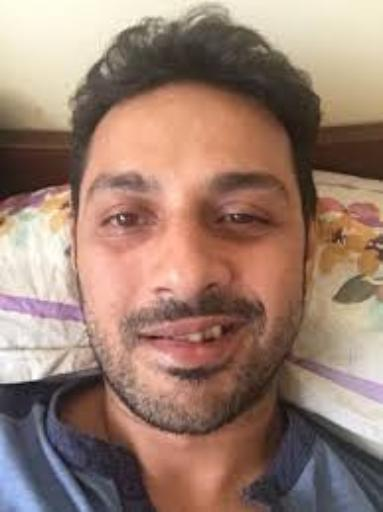left_eye: (215, 209, 277, 235)
left_lip_corner: (236, 312, 256, 334)
right_eye: (99, 208, 156, 237)
right_lip_corner: (133, 326, 159, 352)
